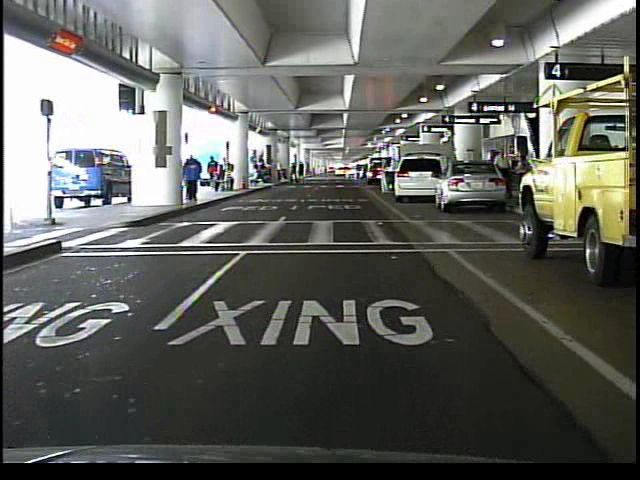person: (181, 152, 205, 205)
